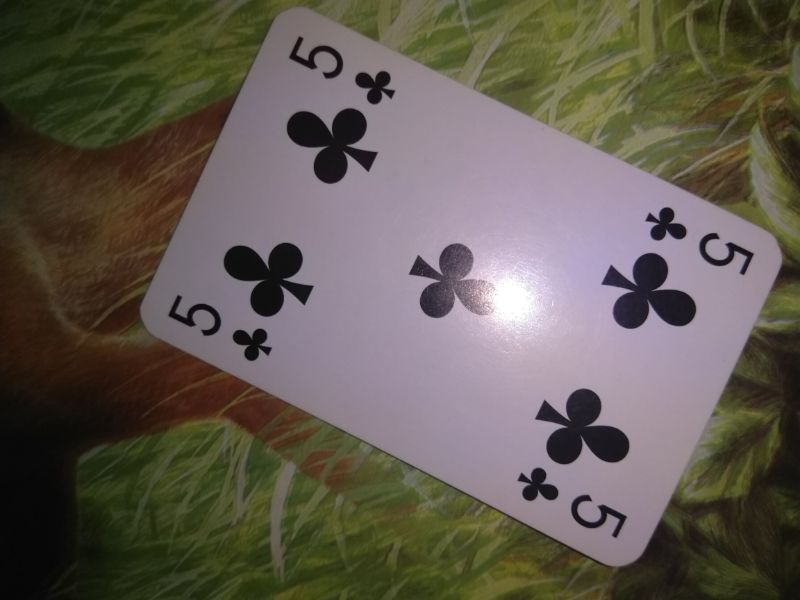5c: (509, 459, 630, 542), (283, 31, 401, 107), (639, 203, 756, 278), (161, 291, 276, 363)
